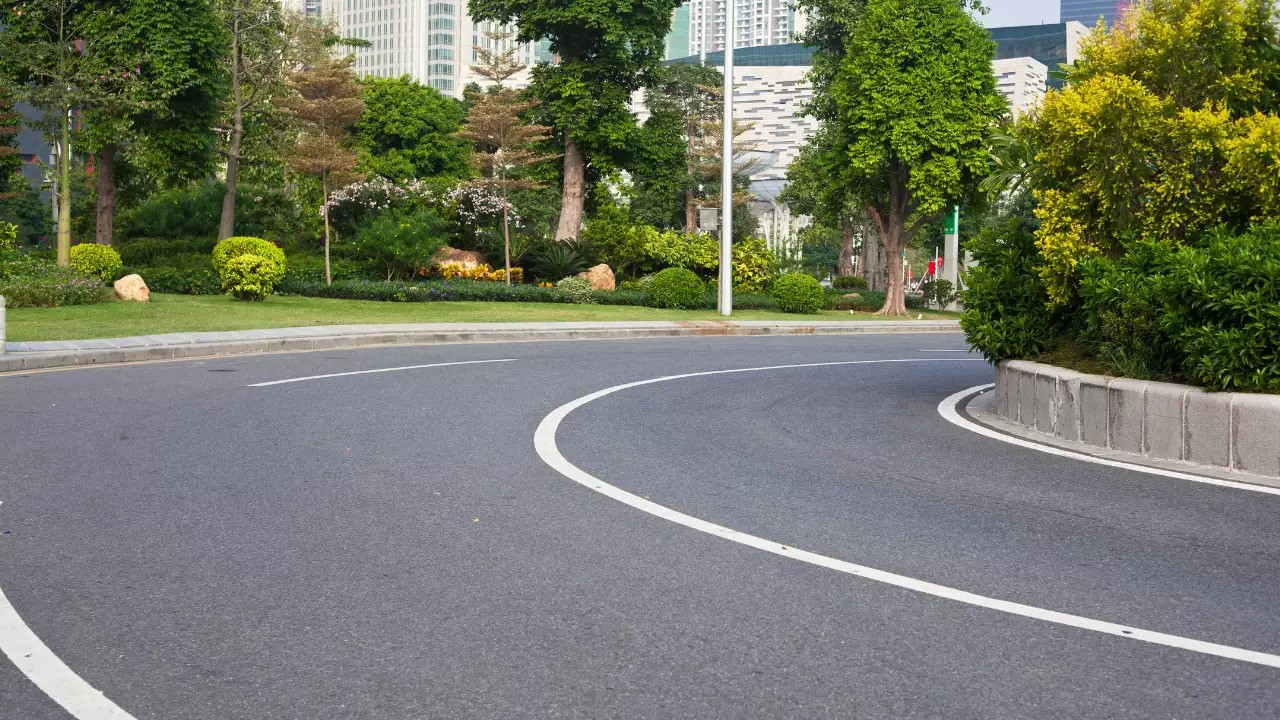rightTrun: (28, 275, 978, 720)
